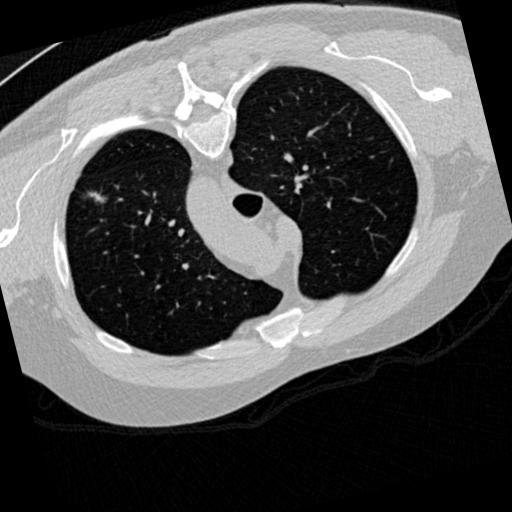nodule: (85, 185, 110, 210)
